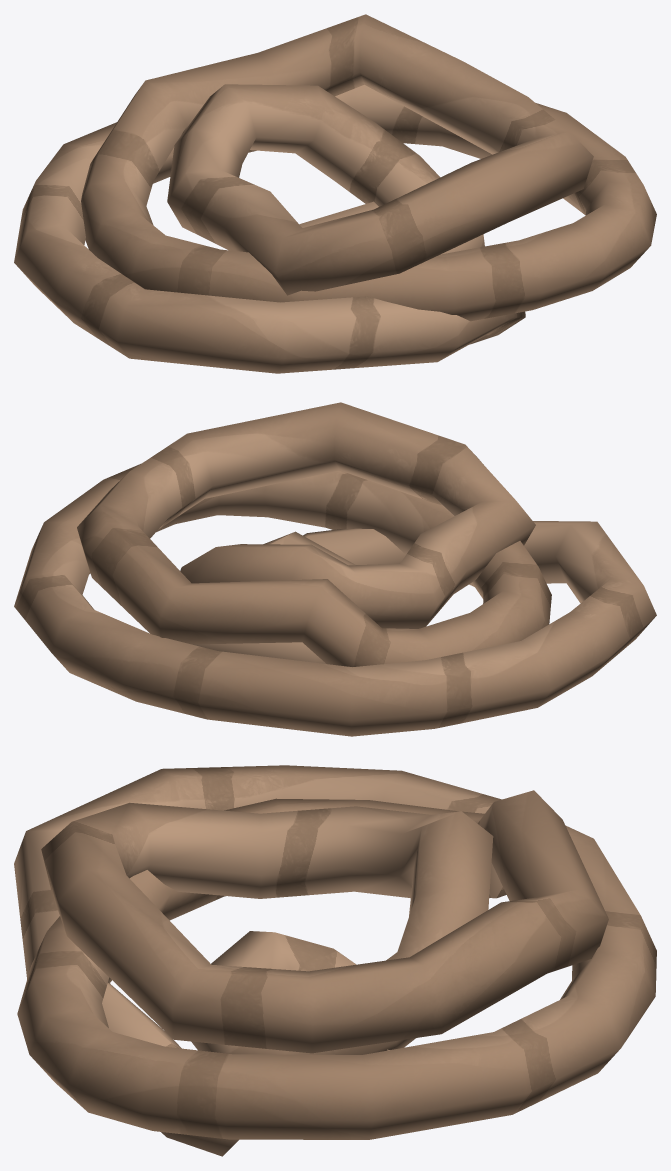
The model's file is rope.fbx.
3 renders of one model, top to bottom at view 1: azimuth 30°, elevation 25°; view 2: azimuth 150°, elevation 25°; view 3: azimuth 270°, elevation 25°, orthographic. The views are drawn at different scales.
Parts seen in each view (by area): view 1: Vert; view 2: Vert; view 3: Vert.
Part boxes in pixels (x1=…): Vert: x1=14, y1=14, x2=656, y2=373; Vert: x1=14, y1=402, x2=656, y2=736; Vert: x1=14, y1=765, x2=656, y2=1156.
Bounding box in the file's own units: 99.07 × 37.45 × 82.59.
